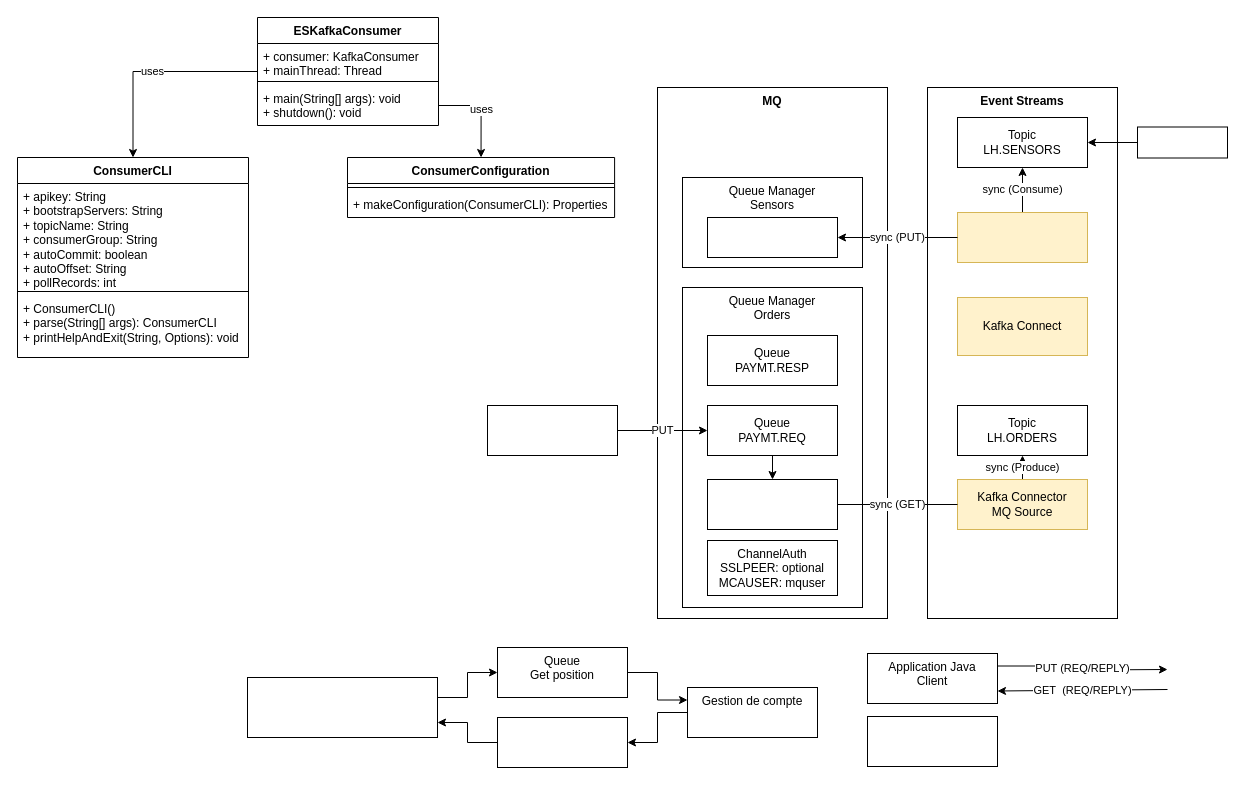
The diagram is 1245 pixels wide and 785 high, and some of its shapes have lost their labels. The centre of each missing label's shape, as x and y in pixels:
"Application Java Payments" goes at pixel 552 430.
"Application Java Position de compte (COD - Confirmation delivery)" goes at pixel 342 707.
"Application Java Simulation payment" goes at pixel 932 741.
"IOT" goes at pixel 1182 142.
"Kafka Connector MQ Sink" goes at pixel 1022 237.
"Queue P osition" goes at pixel 562 742.
"Queue WEATHER.PAR" goes at pixel 772 237.
"Streaming Queue PAYMT.REQ.CPY" goes at pixel 772 504.
